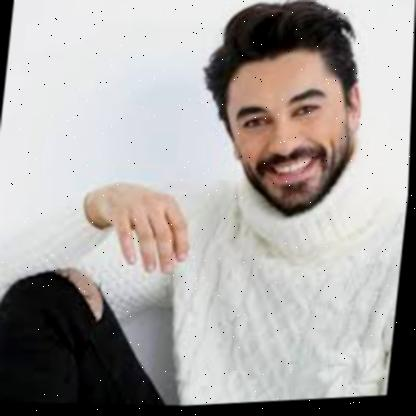person: (193, 0, 378, 225)
